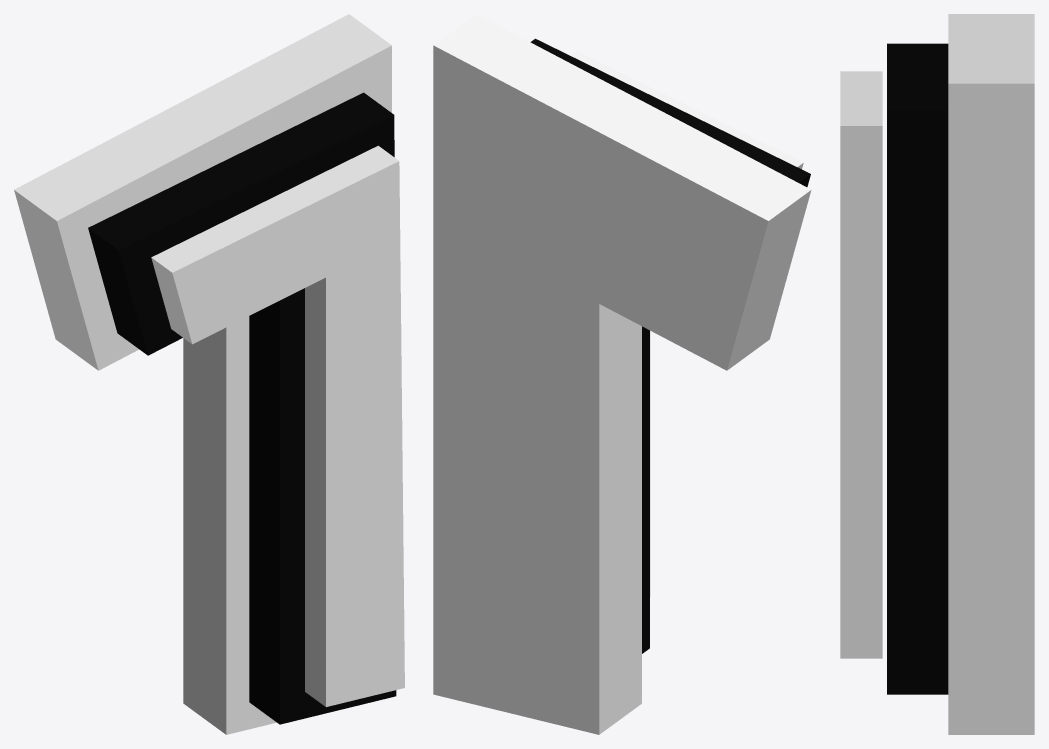
3 renders of one model, left to right at view 1: azimuth 30°, elevation 25°; view 2: azimuth 150°, elevation 25°; view 3: azimuth 270°, elevation 25°, orthographic.
Parts seen in each view (by area): view 1: テキスト_1, テキスト.001_1.001; view 2: テキスト_1, テキスト.001_1.001; view 3: テキスト_1, テキスト.001_1.001.
Part boxes in pixels (x1,y1,x2,y2): テキスト_1: (14, 14, 404, 734); テキスト.001_1.001: (88, 92, 393, 724); テキスト_1: (433, 14, 811, 734); テキスト.001_1.001: (530, 38, 810, 653); テキスト_1: (840, 14, 1034, 734); テキスト.001_1.001: (887, 43, 948, 694).
Size of the model in its own units: 0.3581 by 0.6627 by 0.1791.
1 material, 1 textured.
